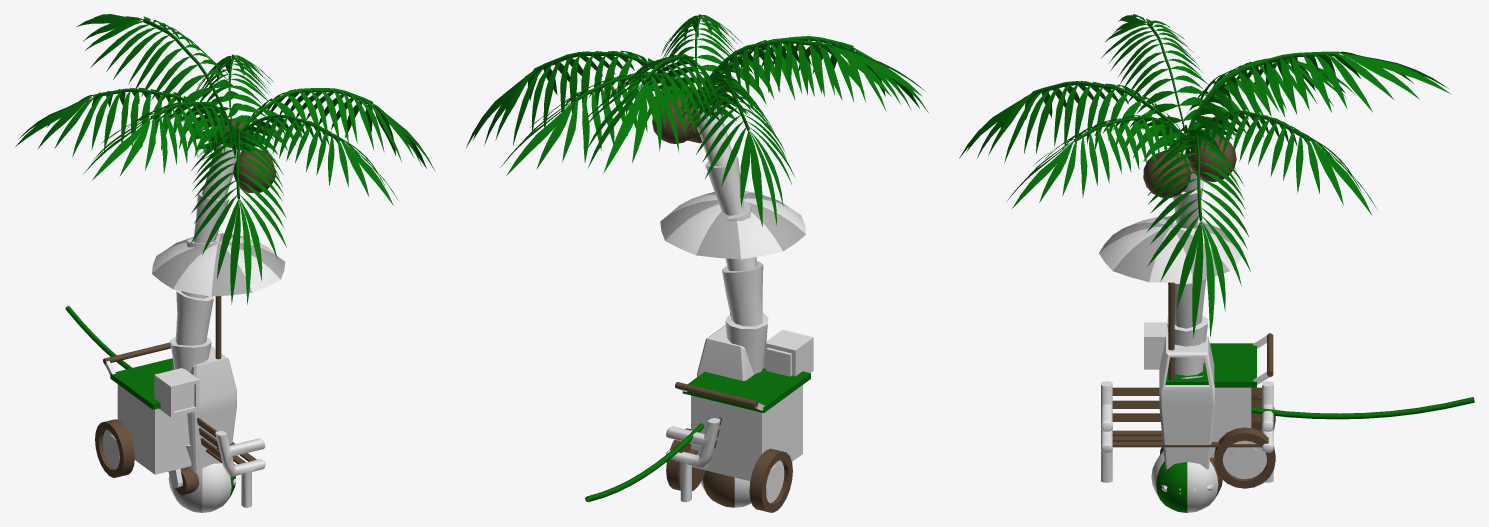
Rendered from Evironment_Props.fbx.
The picture shows the model from 3 angles, left to right: view 1: azimuth 30°, elevation 25°; view 2: azimuth 150°, elevation 25°; view 3: azimuth 270°, elevation 25°; orthographic projection. The views are drawn at different scales.
Visible parts, largest first — view 1: Palm_Tree, Hot_Dog_Cart, Trash_Bin, Bench, Beach_Ball; view 2: Palm_Tree, Hot_Dog_Cart, Trash_Bin, Bench, Beach_Ball, RopeFence; view 3: Palm_Tree, Hot_Dog_Cart, Trash_Bin, Bench, Beach_Ball, RopeFence.
Part boxes in pixels (x1,y1,x2,y2): Palm_Tree: (15,14,435,468); Hot_Dog_Cart: (95,233,285,495); Trash_Bin: (171,346,236,473); Bench: (197,417,265,507); Beach_Ball: (168,463,235,512); Palm_Tree: (466,14,928,374); Hot_Dog_Cart: (660,191,813,512); Trash_Bin: (697,325,764,380); Bench: (666,417,722,502); Beach_Ball: (700,470,751,507); RopeFence: (585,423,704,502); Palm_Tree: (959,14,1451,384); Hot_Dog_Cart: (1099,216,1275,488); Trash_Bin: (1159,336,1215,469); Bench: (1101,381,1273,482); Beach_Ball: (1151,451,1222,512); RopeFence: (1251,397,1474,419).
Bounding box in the file's own units: 8.48 × 9.24 × 9.29.
